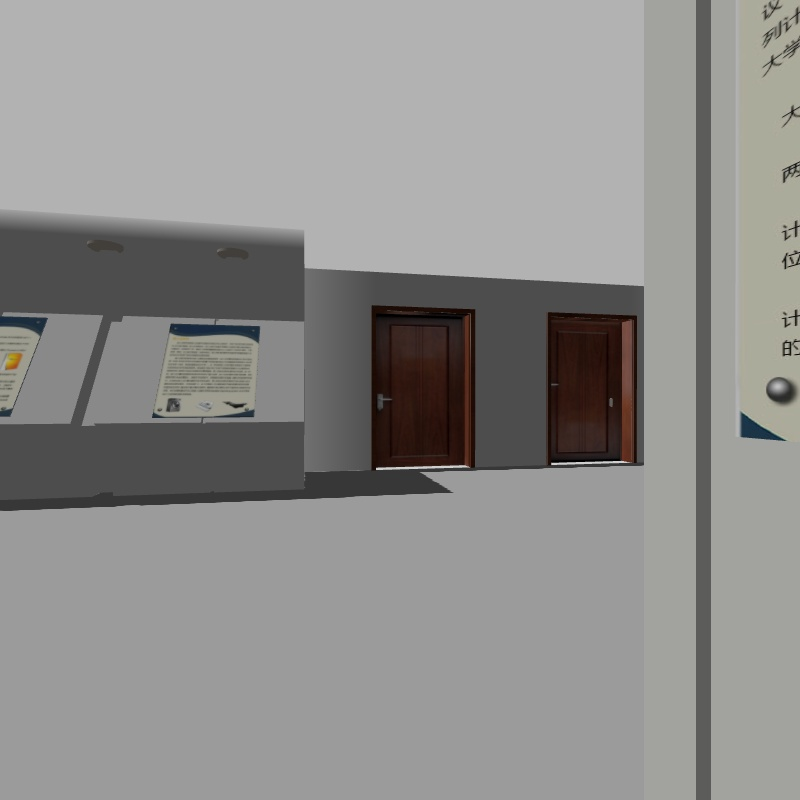handle: (372, 386, 395, 413), (548, 372, 565, 392)
